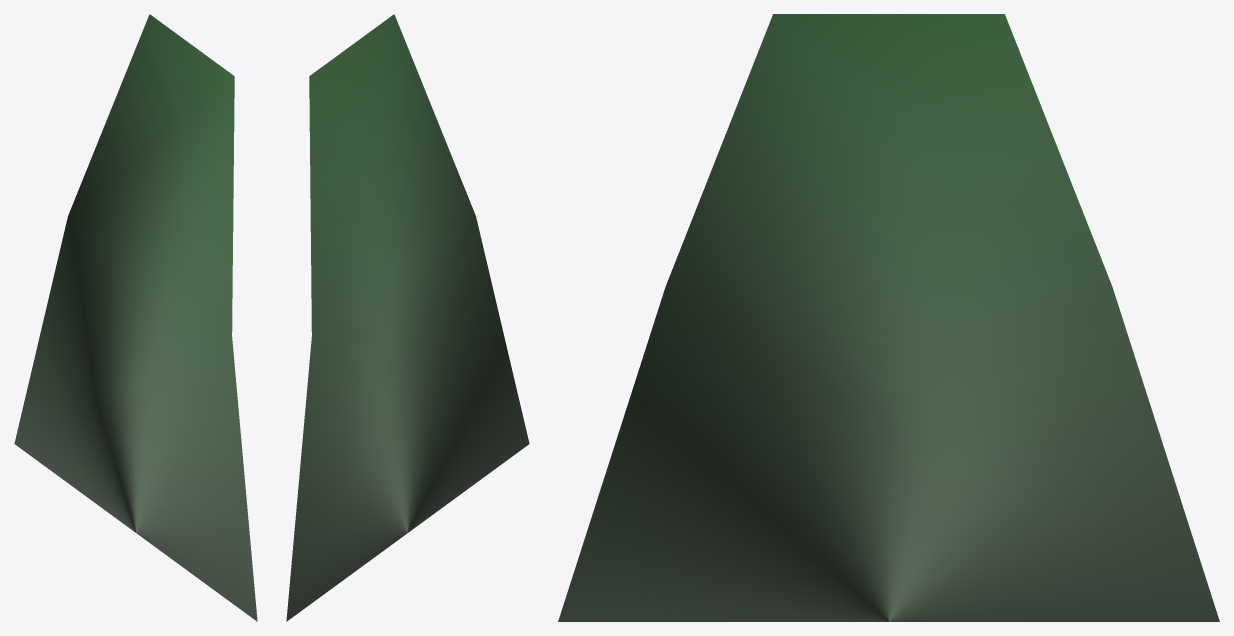
File: Blade_Lawn_Wide.glb
3 renders of one model, left to right at view 1: azimuth 30°, elevation 25°; view 2: azimuth 150°, elevation 25°; view 3: azimuth 270°, elevation 25°, orthographic. The views are drawn at different scales.
Parts seen in each view (by area): view 1: Blade_Lawn_Wide; view 2: Blade_Lawn_Wide; view 3: Blade_Lawn_Wide.
Part boxes in pixels (bbox=[...]): Blade_Lawn_Wide: bbox=[14, 14, 257, 621]; Blade_Lawn_Wide: bbox=[286, 14, 529, 621]; Blade_Lawn_Wide: bbox=[558, 14, 1219, 621].
Size of the model in its own units: 0.006 by 0.0484 by 0.045.
